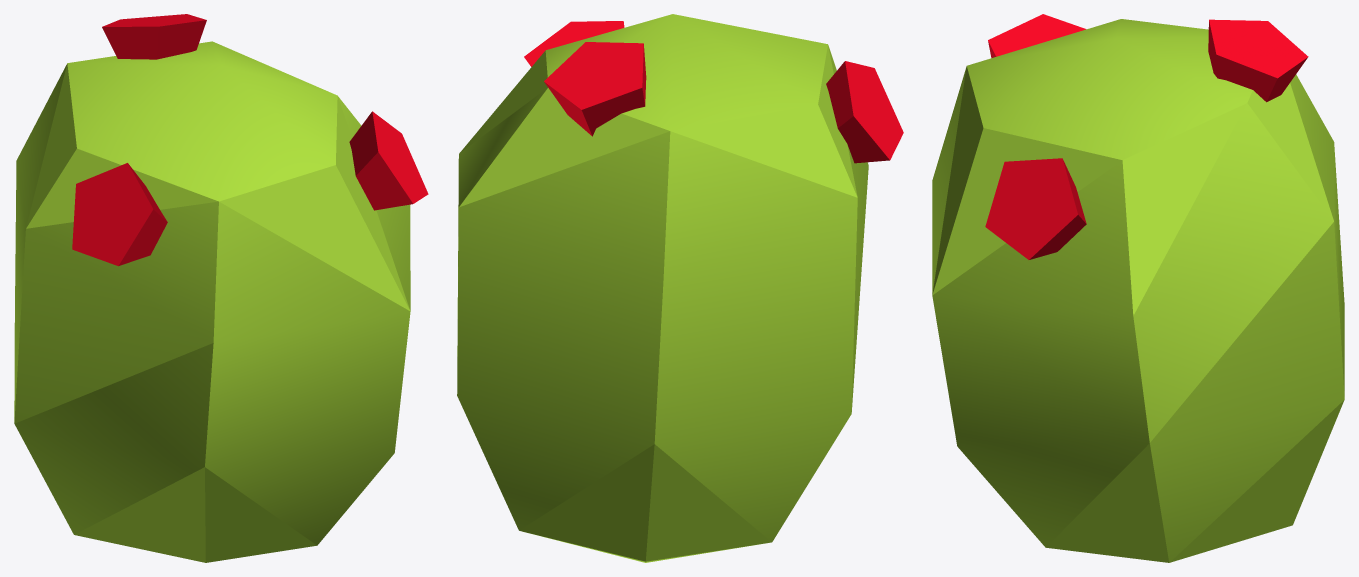
Rendered from cactus1.obj.
The picture shows the model from 3 angles, left to right: view 1: azimuth 30°, elevation 25°; view 2: azimuth 150°, elevation 25°; view 3: azimuth 270°, elevation 25°; orthographic projection. The views are drawn at different scales.
Visible parts, largest first — view 1: pasted__pCylinder1 cactus1, cactus1 pasted__pPlatonic3, cactus1 pasted__pPlatonic4, cactus1 pasted__pasted__pPlatonic1; view 2: pasted__pCylinder1 cactus1, cactus1 pasted__pasted__pPlatonic1, cactus1 pasted__pPlatonic3, cactus1 pasted__pPlatonic4; view 3: pasted__pCylinder1 cactus1, cactus1 pasted__pPlatonic4, cactus1 pasted__pasted__pPlatonic1, cactus1 pasted__pPlatonic3.
Part boxes in pixels (x1,y1,x2,y2): pasted__pCylinder1 cactus1: (14, 41, 410, 562); cactus1 pasted__pPlatonic3: (72, 163, 167, 266); cactus1 pasted__pPlatonic4: (349, 111, 428, 210); cactus1 pasted__pasted__pPlatonic1: (102, 14, 206, 59); pasted__pCylinder1 cactus1: (457, 14, 868, 562); cactus1 pasted__pasted__pPlatonic1: (544, 42, 646, 136); cactus1 pasted__pPlatonic3: (826, 61, 903, 163); cactus1 pasted__pPlatonic4: (524, 21, 624, 66); pasted__pCylinder1 cactus1: (932, 19, 1344, 562); cactus1 pasted__pPlatonic4: (985, 158, 1086, 259); cactus1 pasted__pasted__pPlatonic1: (1208, 19, 1308, 102); cactus1 pasted__pPlatonic3: (988, 14, 1086, 57).
Size of the model in its own units: 0.5857 by 0.7499 by 0.5305.
